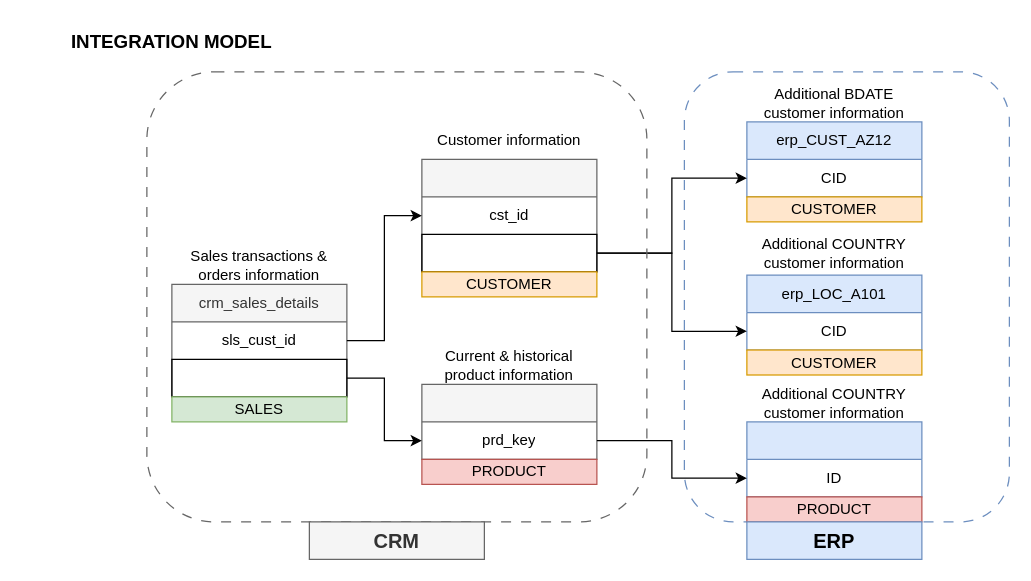
This 1031x581 diagram has some shape labels left out. The shapes that lost their labels are listed below. From the top down, each one's box as (x1, y1, x2, y2) in pixels, then its label:
(421, 158, 597, 272): crm_cust_info
(421, 233, 597, 272): cst_key
(171, 358, 347, 397): sls_prd_key
(421, 383, 597, 459): crm_prd_info
(746, 421, 922, 497): erp_PX_CAT_G1V2
